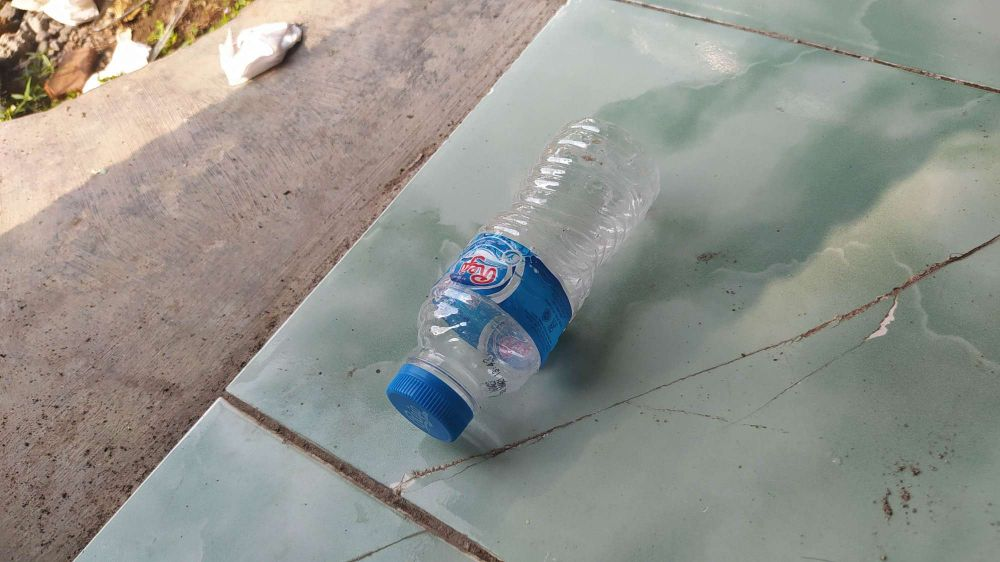botol: (412, 83, 671, 486)
